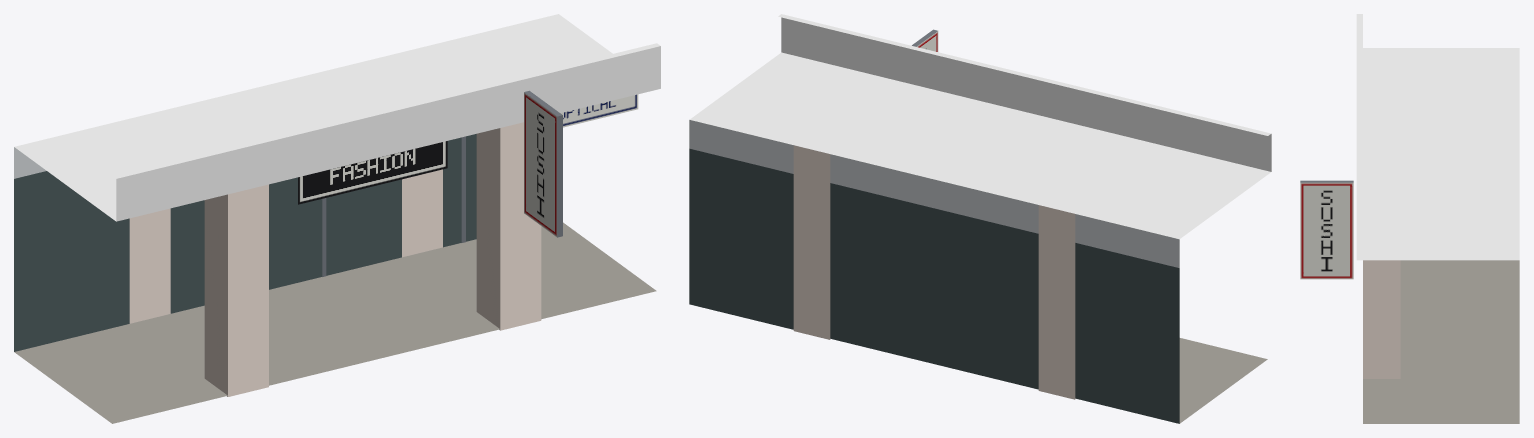
The picture shows the model from 3 angles, left to right: view 1: azimuth 30°, elevation 25°; view 2: azimuth 150°, elevation 25°; view 3: azimuth 270°, elevation 25°; orthographic projection. The views are drawn at different scales.
Parts seen in each view (by area): view 1: a2011/300/base-w4; view 2: a2011/300/base-w4; view 3: a2011/300/base-w4.
Boxes of the visible parts, box(x1,y1,x2,y2) form: a2011/300/base-w4: box(14, 14, 660, 423); a2011/300/base-w4: box(689, 14, 1271, 423); a2011/300/base-w4: box(1300, 14, 1519, 423).
Bounding box in the file's own units: 8 × 3.5 × 3.5.
